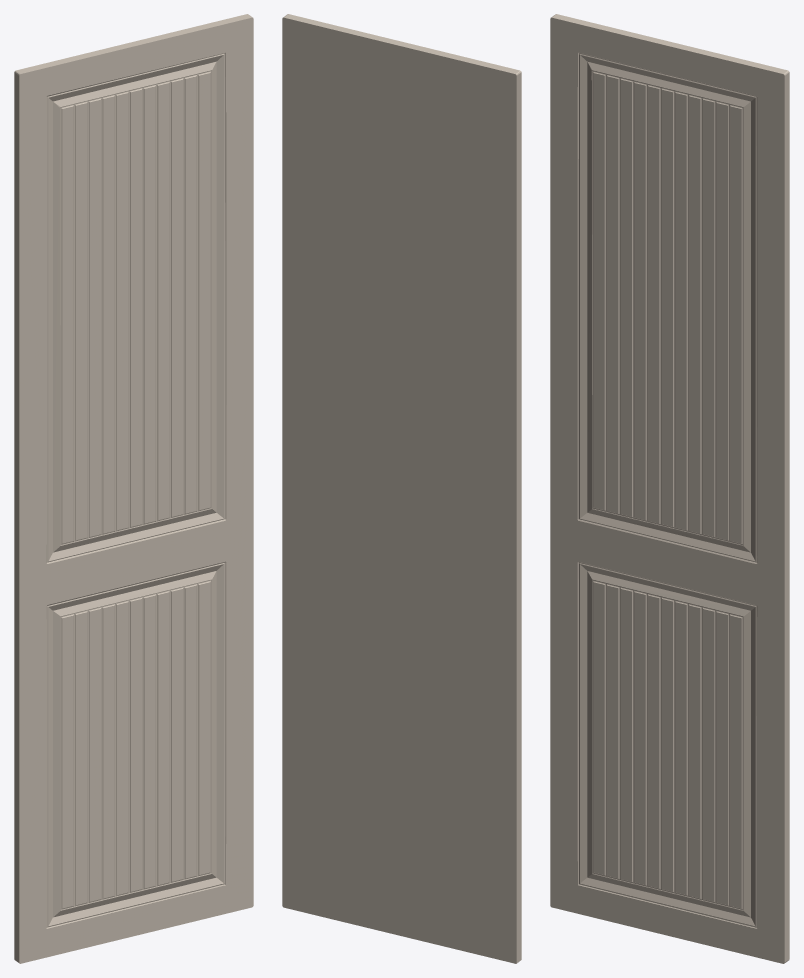
Rendered from nrd-boy-kpk-04.glb.
The picture shows the model from 3 angles, left to right: view 1: azimuth 30°, elevation 25°; view 2: azimuth 150°, elevation 25°; view 3: azimuth 330°, elevation 25°; orthographic projection.
Visible parts, largest first — view 1: NRD BOY KPK 04; view 2: NRD BOY KPK 04; view 3: NRD BOY KPK 04.
Part boxes in pixels (left/top/right/bottom): NRD BOY KPK 04: left=14, top=14, right=253, bottom=963; NRD BOY KPK 04: left=282, top=14, right=521, bottom=963; NRD BOY KPK 04: left=550, top=14, right=789, bottom=963.
Size of the model in its own units: 0.4959 by 1.8 by 0.018.
